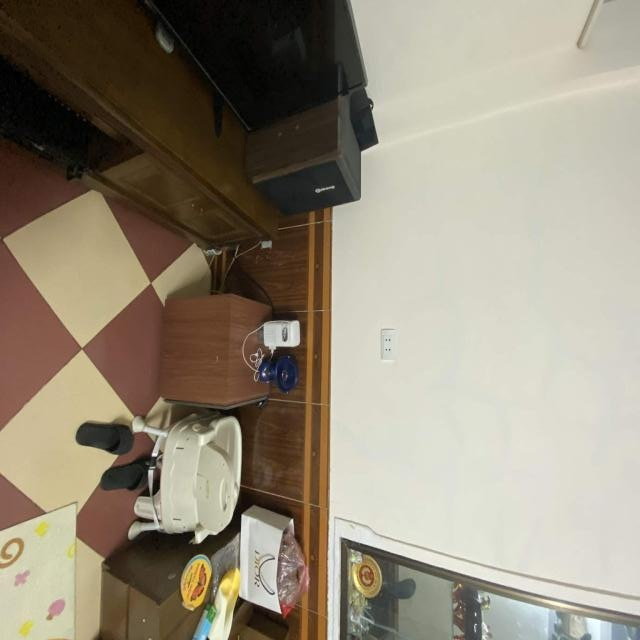outlet: (381, 329, 396, 361)
